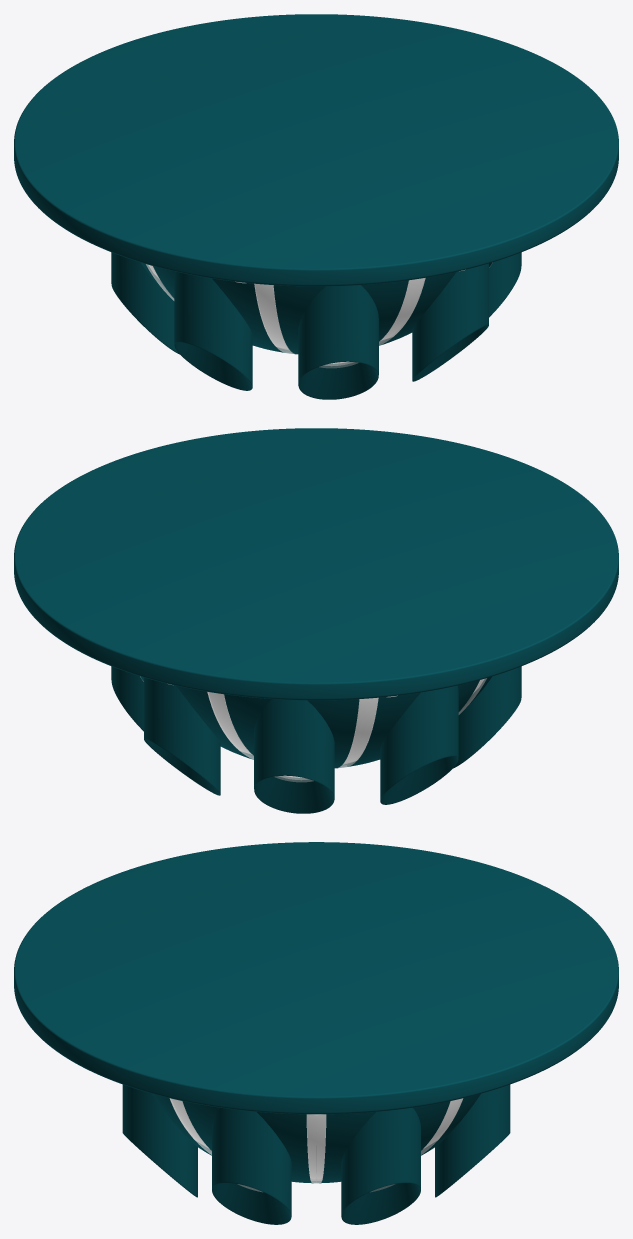
Rendered from UFO.fbx.
3 views of the same model, one above another, from view 1: azimuth 30°, elevation 25°; view 2: azimuth 150°, elevation 25°; view 3: azimuth 270°, elevation 25° (orthographic).
Visible parts, largest first — view 1: chandelier-body, chandelier-glass, chandelier-light; view 2: chandelier-body, chandelier-glass, chandelier-light; view 3: chandelier-body, chandelier-glass, chandelier-light.
Boxes of the visible parts, box(x1,y1,x2,y2) form: chandelier-body: box(14, 14, 618, 399); chandelier-glass: box(146, 262, 492, 368); chandelier-light: box(149, 265, 424, 363); chandelier-body: box(14, 428, 618, 813); chandelier-glass: box(140, 676, 486, 782); chandelier-light: box(208, 679, 483, 777); chandelier-body: box(14, 842, 618, 1224); chandelier-glass: box(169, 1098, 463, 1192); chandelier-light: box(170, 1098, 462, 1178).
Bounding box in the file's own units: 75 × 27.74 × 75.
